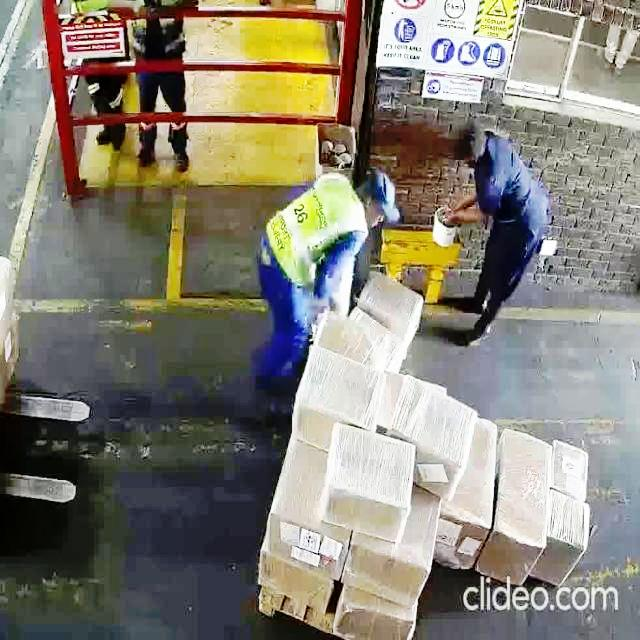Box: (326, 422, 420, 540), (292, 340, 382, 432), (492, 434, 544, 576), (396, 376, 472, 467), (266, 504, 346, 572), (346, 538, 426, 604), (256, 549, 332, 608), (544, 490, 586, 588), (338, 596, 411, 640), (549, 433, 594, 498)
